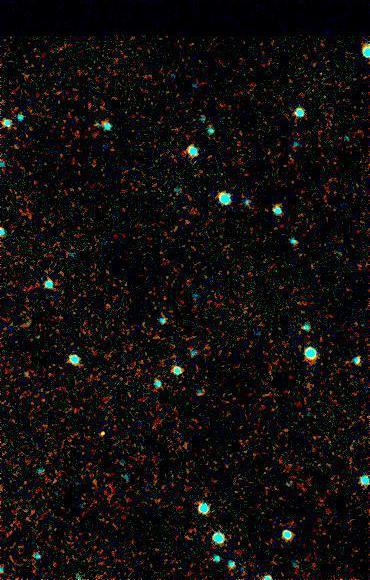star: (86, 416, 116, 446)
